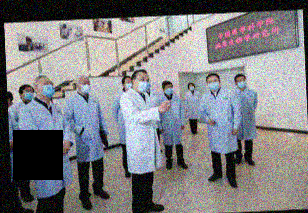with_mask: (40, 79, 55, 98), (137, 75, 152, 94), (21, 87, 35, 102), (79, 79, 92, 95), (207, 78, 221, 91), (164, 84, 175, 96), (237, 77, 248, 89), (124, 78, 134, 91), (189, 83, 196, 92)
